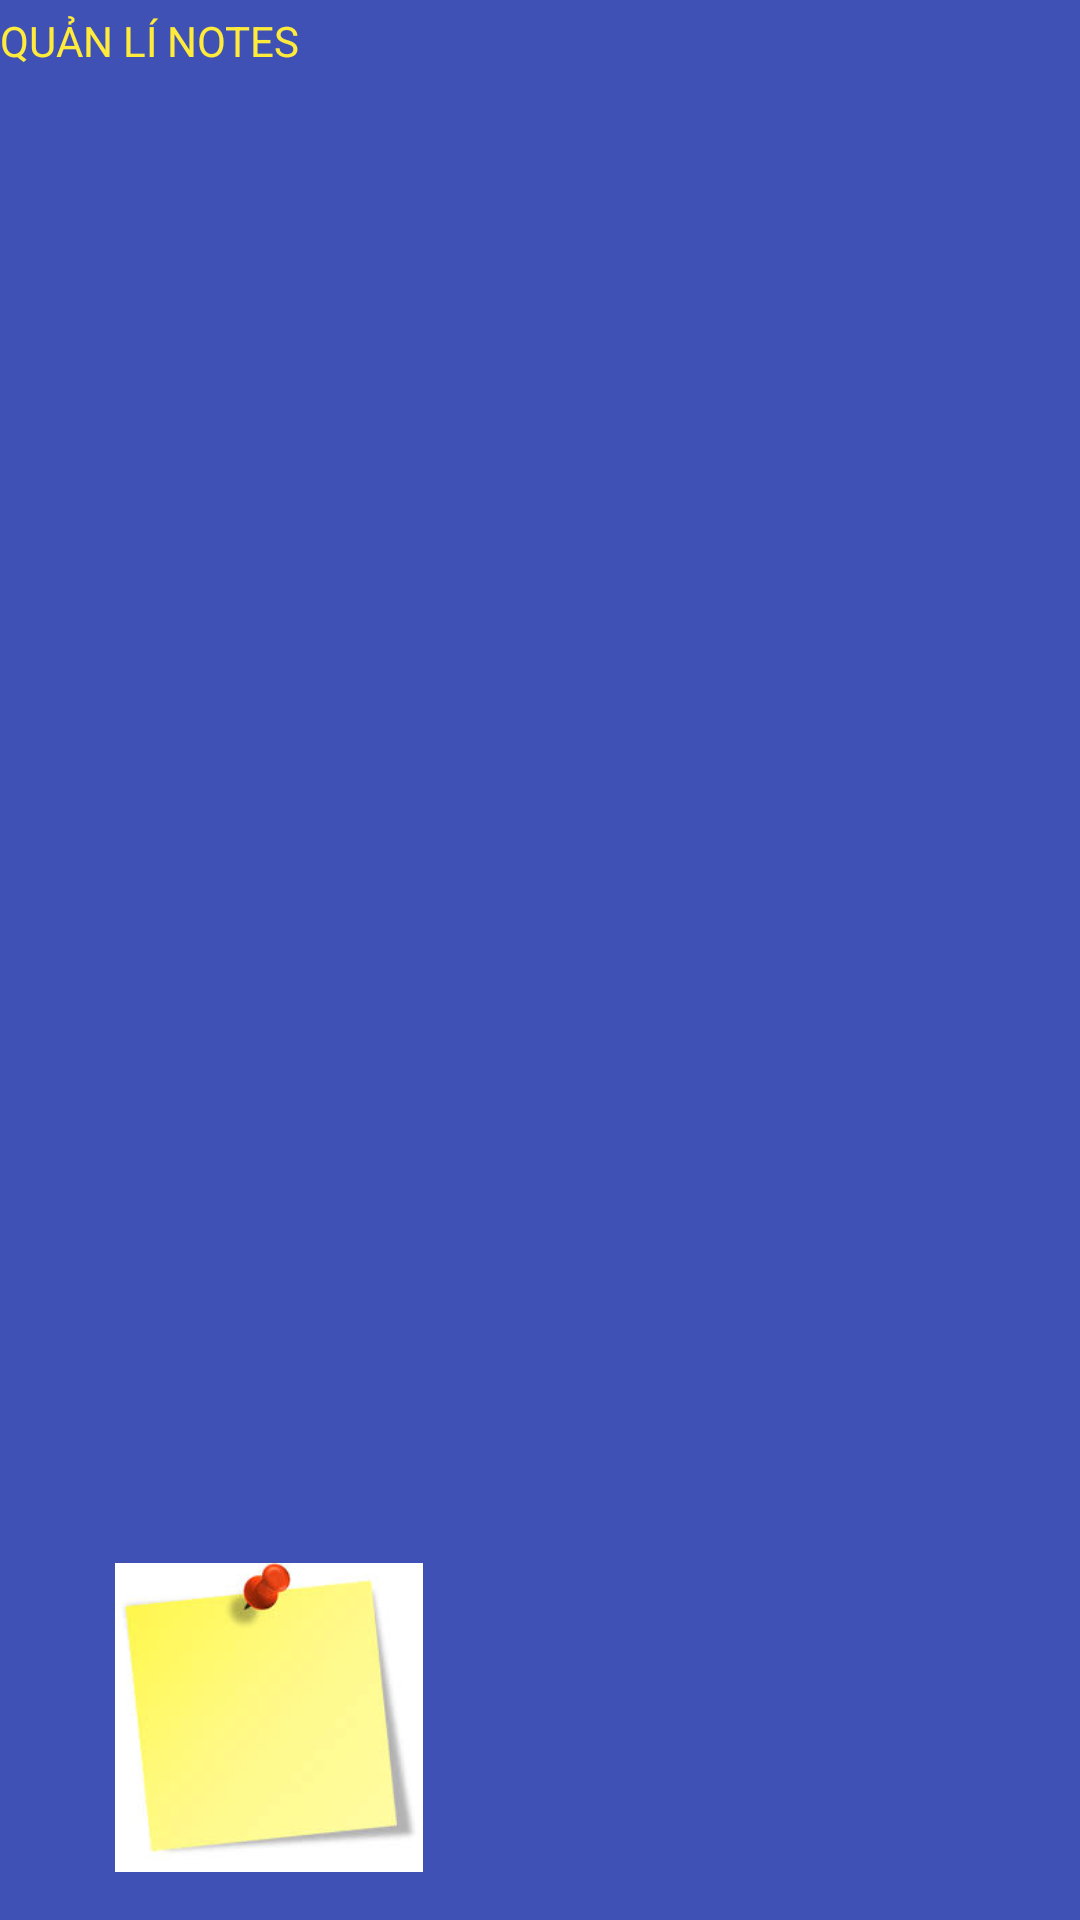

Icons on this 1080 × 1920 Android screen, each with its box as box(x1, y1, x2, y2):
notes: box(115, 1563, 423, 1872)
